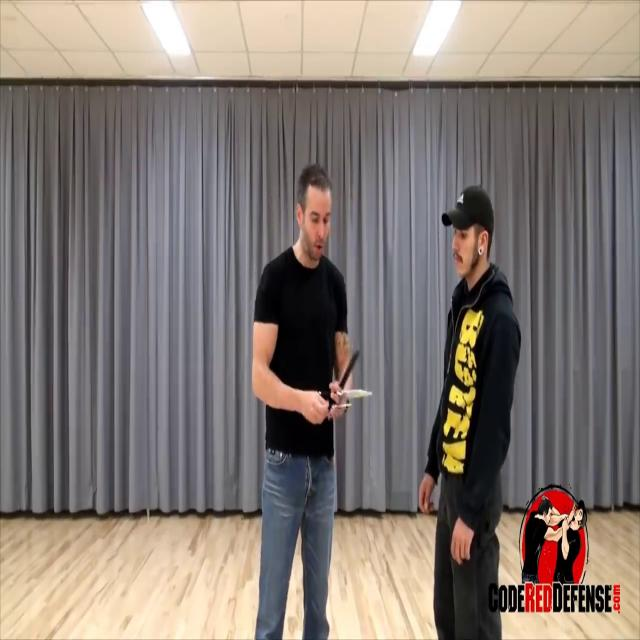Knife_Handle: (302, 388, 374, 424)
